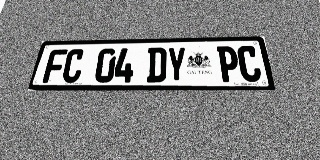0: (94, 48, 117, 83)
4: (113, 48, 135, 83)
C: (236, 46, 263, 82), (61, 49, 85, 83)
D: (146, 47, 166, 82)
F: (42, 49, 68, 83)
P: (217, 46, 241, 82)
Y: (167, 47, 187, 82)
